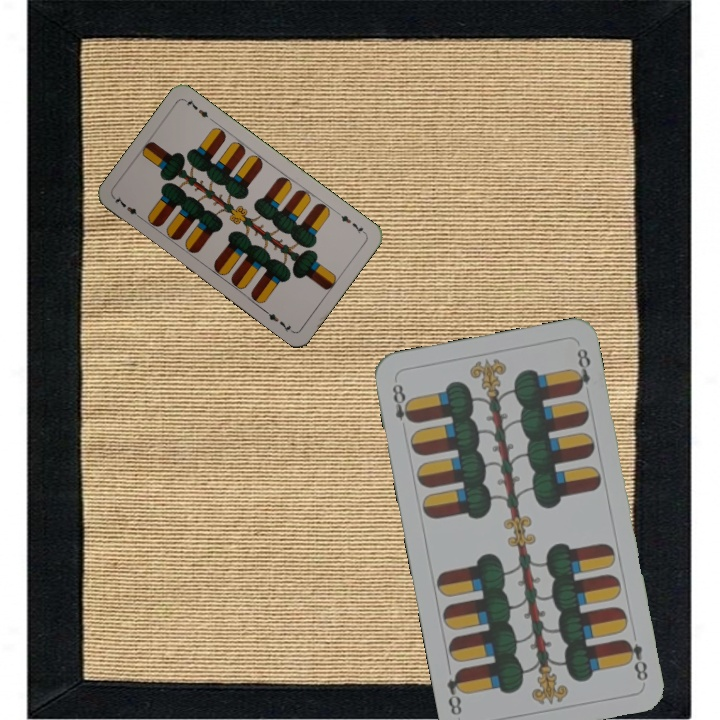E7: (110, 192, 145, 222), (333, 208, 368, 237)
E8: (619, 635, 651, 684), (388, 379, 416, 426)
